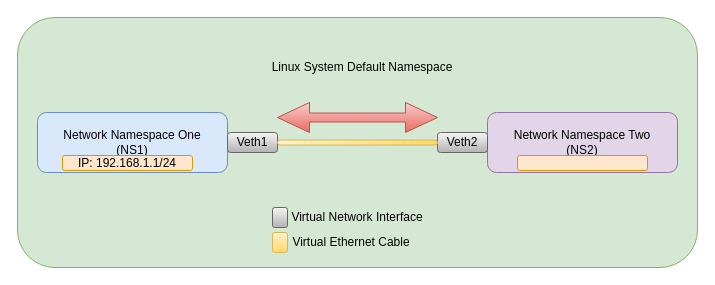
This 715x285 diagram has some shape labels left out. Each missing label, with the centre of its shape:
"Communication" goes at pixel 357 117.
"IP: 192.168.1.2/24" goes at pixel 582 162.
